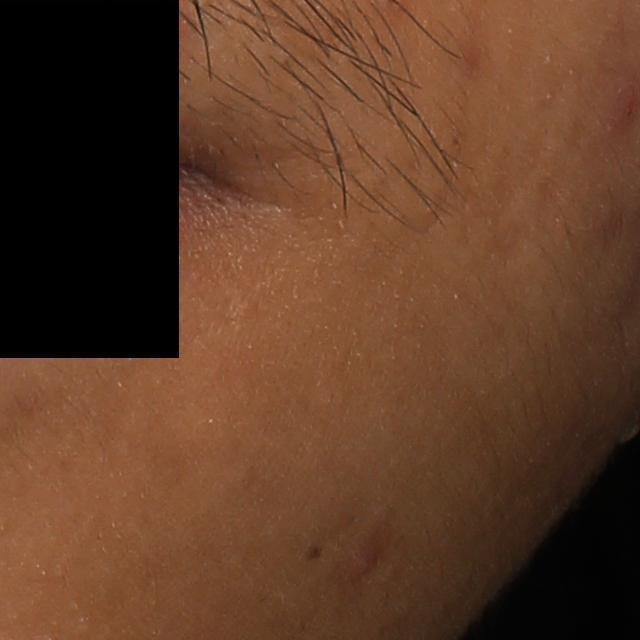nevus: (301, 540, 326, 560)
papule: (341, 529, 382, 578)
